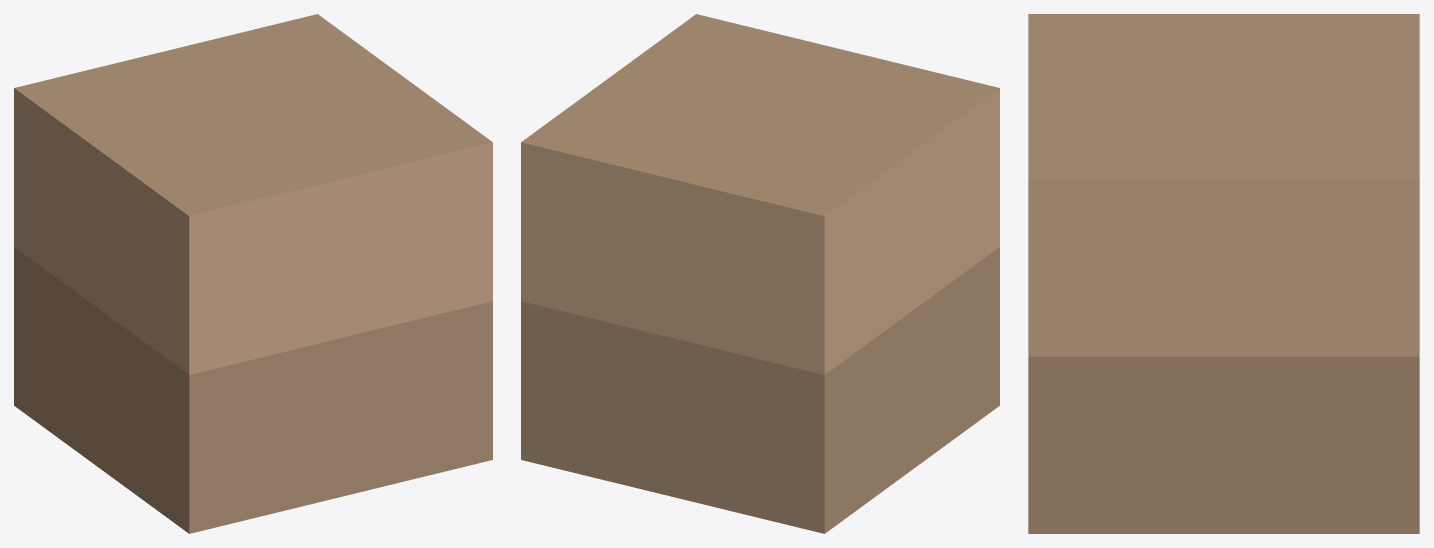
File: decor_stump_a.glb
3 renders of one model, left to right at view 1: azimuth 30°, elevation 25°; view 2: azimuth 150°, elevation 25°; view 3: azimuth 270°, elevation 25°, orthographic. The views are drawn at different scales.
Visible parts, largest first — view 1: decor_stump_a; view 2: decor_stump_a; view 3: decor_stump_a.
Part boxes in pixels (<box>): decor_stump_a: <box>14,14,492,533</box>; decor_stump_a: <box>521,14,999,533</box>; decor_stump_a: <box>1028,14,1419,533</box>.
Size of the model in its own units: 0.25 by 0.25 by 0.25.
